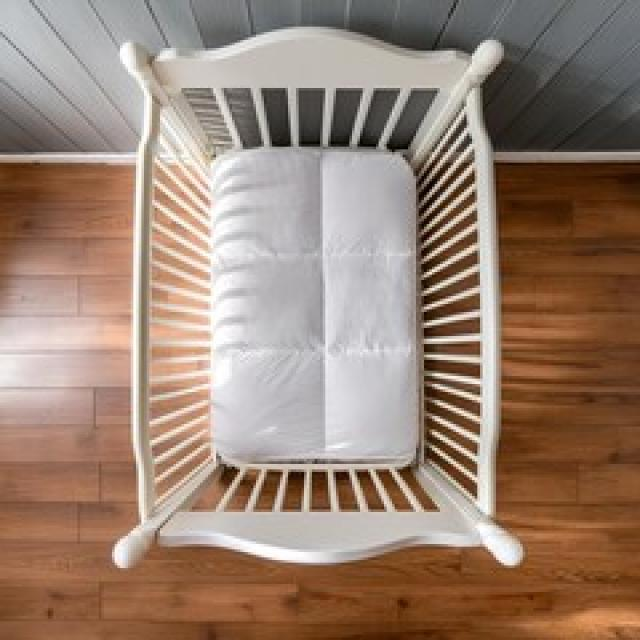crib: (110, 21, 526, 571)
